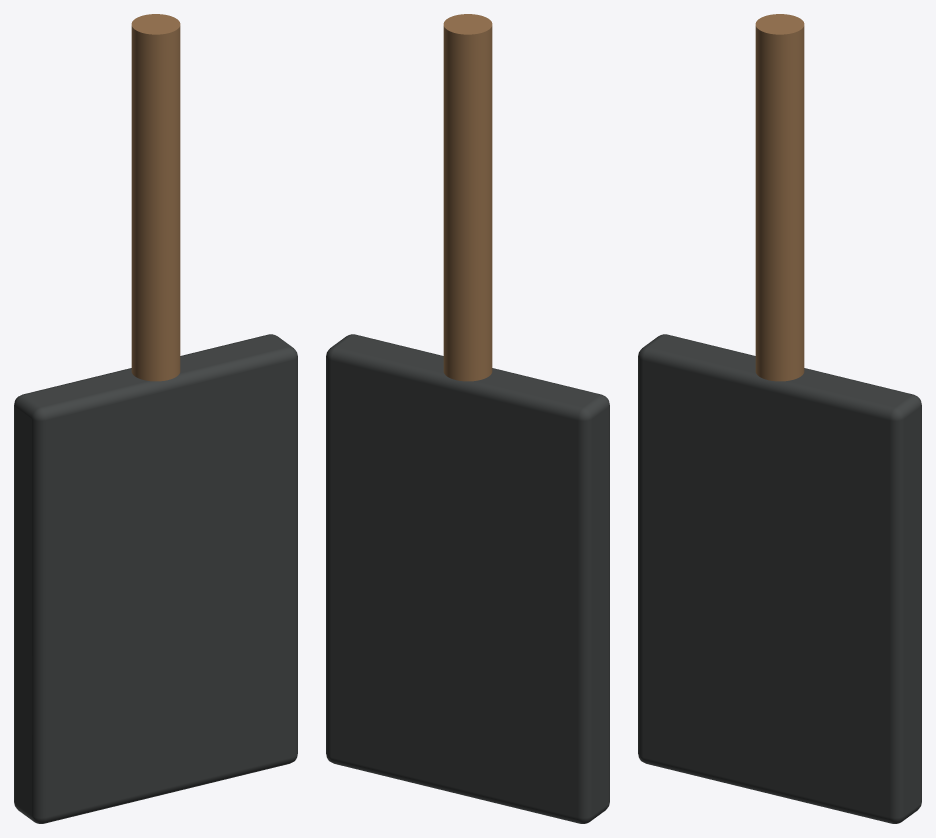
File: glassblowing-studio-and-gallery-graphite-paddle-0f0554f8__29595.glb
3 renders of one model, left to right at view 1: azimuth 30°, elevation 25°; view 2: azimuth 150°, elevation 25°; view 3: azimuth 330°, elevation 25°, orthographic.
Parts seen in each view (by area): view 1: graphite-paddle; view 2: graphite-paddle; view 3: graphite-paddle.
Part boxes in pixels (x1,y1,x2,y2): graphite-paddle: (14,14,297,823); graphite-paddle: (326,14,609,823); graphite-paddle: (638,14,921,823).
Size of the model in its own units: 0.2 by 0.55 by 0.035.
